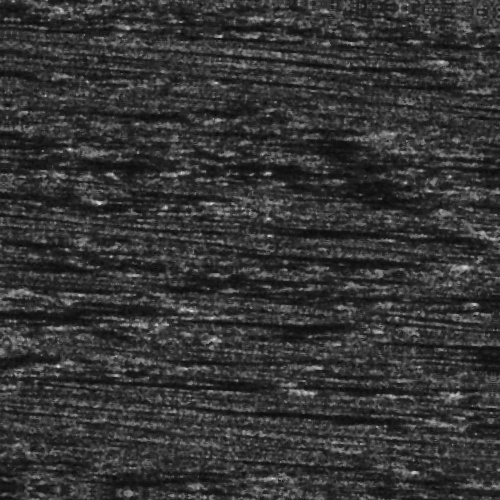object: (348, 316, 441, 327), (108, 320, 171, 329), (400, 408, 453, 415), (206, 193, 247, 200), (81, 205, 122, 210), (472, 222, 500, 229), (437, 247, 448, 256), (37, 179, 58, 182)
shadow: (254, 247, 442, 256), (248, 316, 394, 327), (295, 222, 500, 229), (0, 320, 139, 329), (278, 408, 426, 415), (165, 378, 453, 381), (125, 193, 226, 200), (411, 330, 500, 337), (0, 205, 101, 210), (0, 179, 48, 182)
